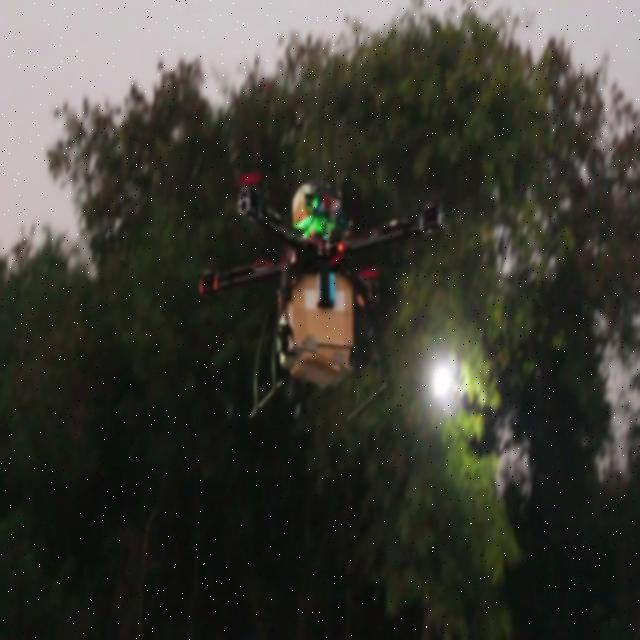UAV: (199, 171, 447, 422)
